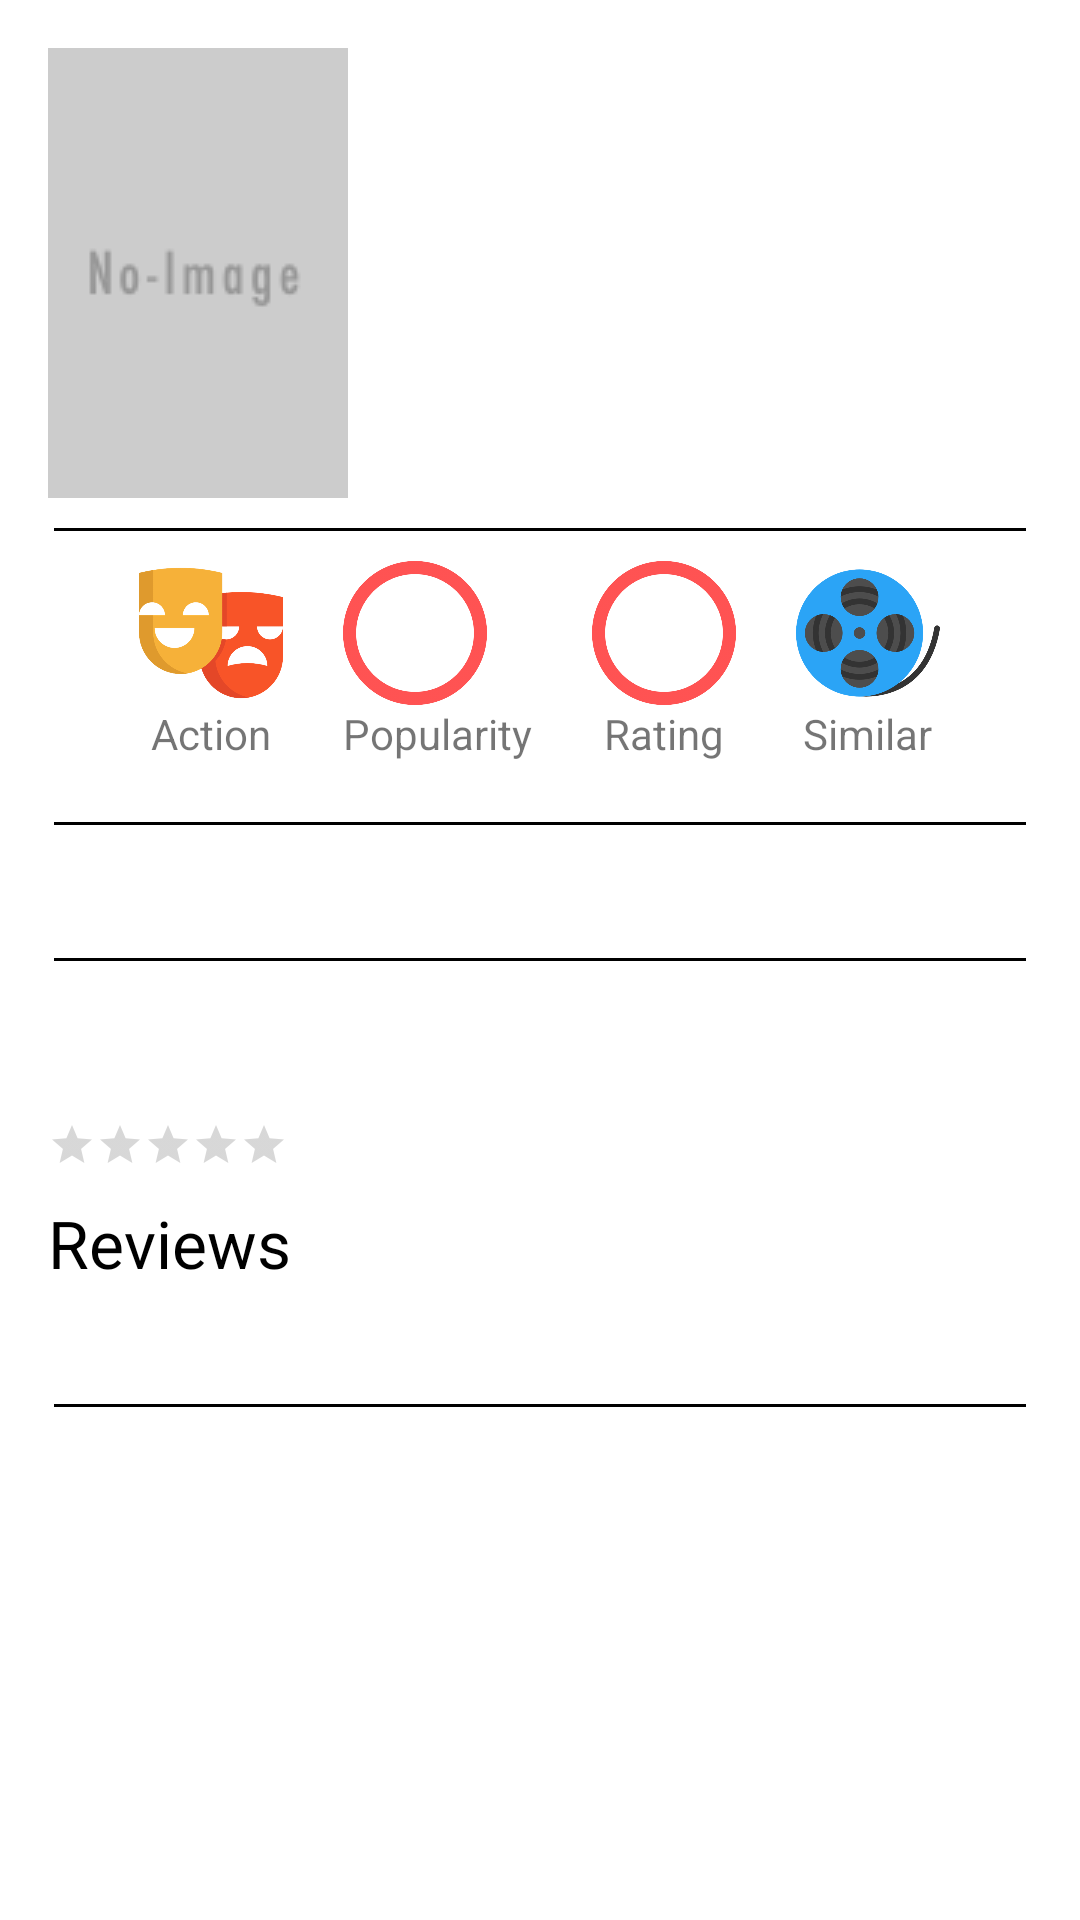

Icon click points for this 1080px×1920px phone screenshot, format point (x, y):
masks: point (211, 633)
